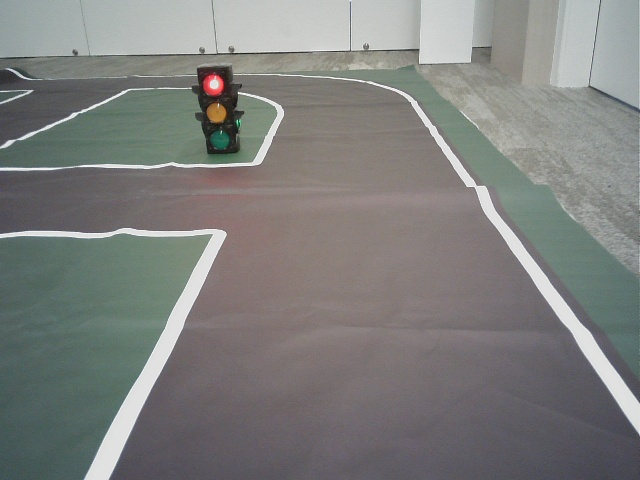red: (199, 69, 233, 152)
